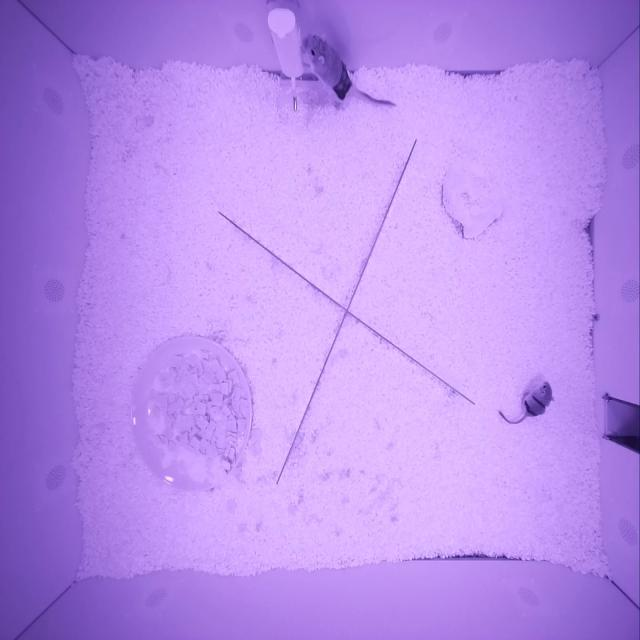adult_back: (304, 33, 352, 99)
pup_h_stripe: (523, 381, 555, 416)
